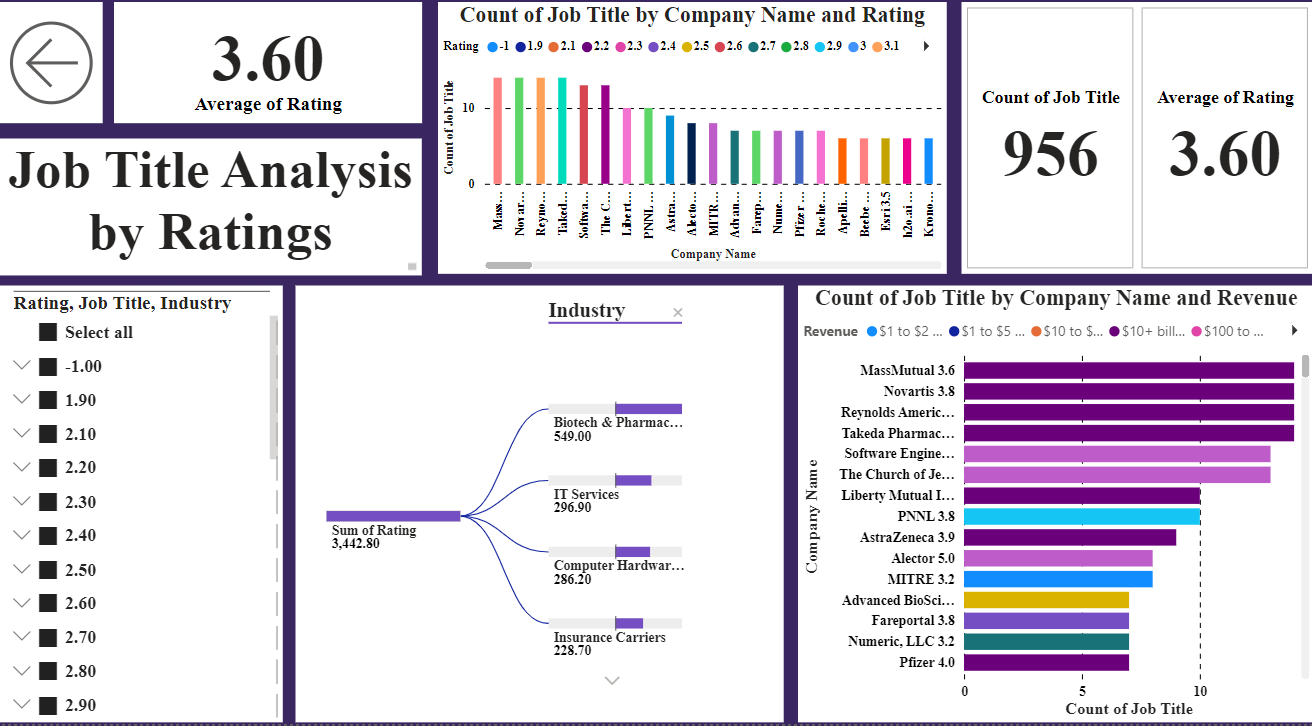

Layout of this report page (visuals, bound fields, positions):
{"tool":"powerbi","page":{"name":"Job Title Analysis by Ratings","canvas":[1280,720],"ordinal":3},"visuals":[{"type":"ribbonChart","fields":{"Y":["CountNonNull(glassdoor_jobs.Job Title)"],"Category":["glassdoor_jobs.Company Name"],"Series":["glassdoor_jobs.Rating"]},"box":[427,18.2,495.1,265],"z":0},{"type":"actionButton","box":[0,18.2,99.9,118.1],"z":1000},{"type":"textbox","title":"Job Title Analysis by Ratings","box":[0,149.9,410.3,133.3],"z":2000},{"type":"card","fields":{"Values":["Avg(glassdoor_jobs.Rating)"]},"box":[110.5,18.2,299.8,118.1],"z":3000},{"type":"slicer","fields":{"Values":["glassdoor_jobs.Rating","glassdoor_jobs.Job Title","glassdoor_jobs.Industry"]},"box":[0,293.8,275.6,425.5],"z":4000},{"type":"decompositionTreeVisual","fields":{"Analyze":["Sum(glassdoor_jobs.Rating)"],"ExplainBy":["glassdoor_jobs.Industry"]},"box":[287.7,293.8,475.5,425.5],"z":5000},{"type":"cardVisual","fields":{"Data":["CountNonNull(glassdoor_jobs.Job Title)","Avg(glassdoor_jobs.Rating)"]},"box":[935.8,18.2,343.7,265],"z":6000},{"type":"barChart","fields":{"Y":["CountNonNull(glassdoor_jobs.Job Title)"],"Category":["glassdoor_jobs.Company Name"],"Series":["glassdoor_jobs.Revenue"]},"box":[776.8,293.8,502.7,425.5],"z":7000}]}

Visuals, with their boxes in screenshot pixels (x1, y1, x2, y2), scaled from the page's 1280x720 canvas onto the 1312x726 screenshot:
ribbonChart - CountNonNull(glassdoor_jobs.Job Title) x glassdoor_jobs.Company Name: {"left": 438, "top": 18, "right": 945, "bottom": 286}
actionButton: {"left": 0, "top": 18, "right": 102, "bottom": 137}
"Job Title Analysis by Ratings" textbox: {"left": 0, "top": 151, "right": 421, "bottom": 286}
card - Avg(glassdoor_jobs.Rating): {"left": 113, "top": 18, "right": 421, "bottom": 137}
slicer - glassdoor_jobs.Rating x glassdoor_jobs.Job Title: {"left": 0, "top": 296, "right": 282, "bottom": 725}
decompositionTreeVisual - Sum(glassdoor_jobs.Rating) x glassdoor_jobs.Industry: {"left": 295, "top": 296, "right": 782, "bottom": 725}
cardVisual - CountNonNull(glassdoor_jobs.Job Title) x Avg(glassdoor_jobs.Rating): {"left": 959, "top": 18, "right": 1311, "bottom": 286}
barChart - CountNonNull(glassdoor_jobs.Job Title) x glassdoor_jobs.Company Name: {"left": 796, "top": 296, "right": 1311, "bottom": 725}
